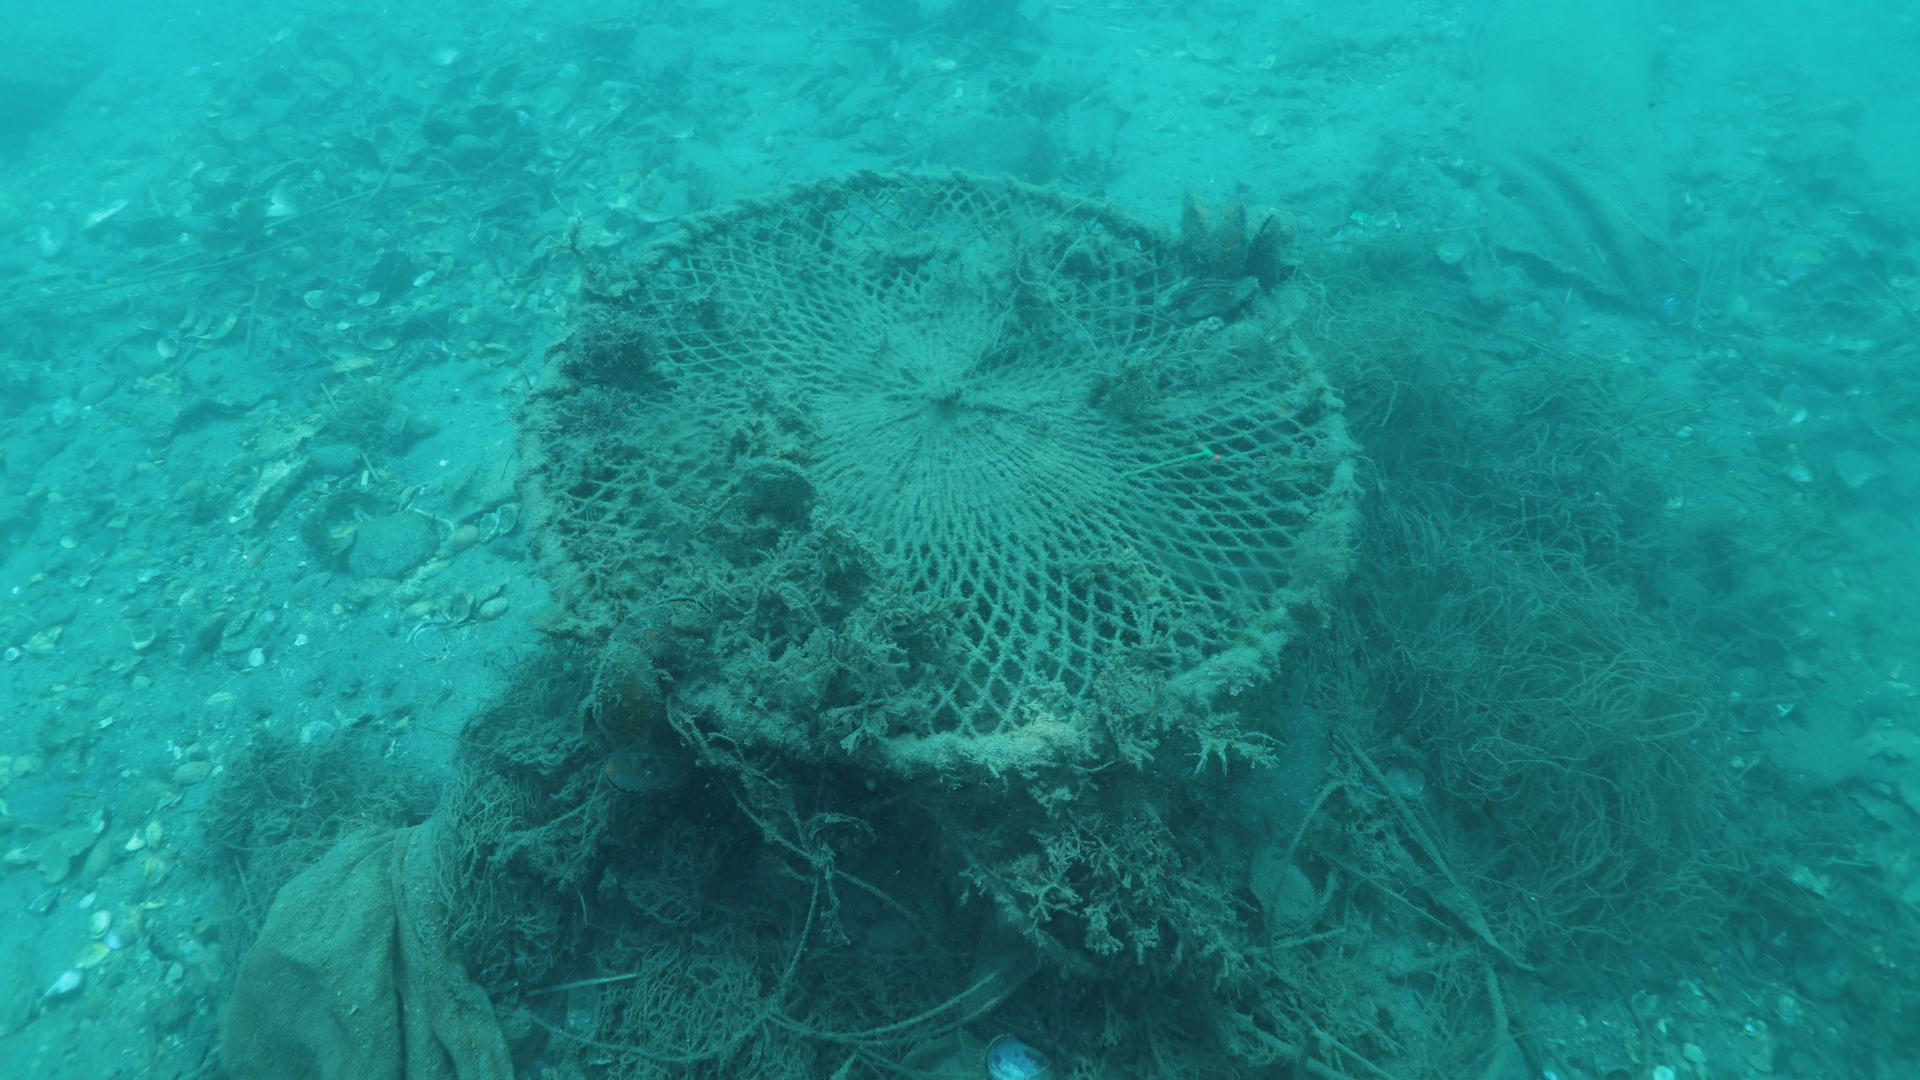circular fish trap: (521, 164, 1365, 796)
